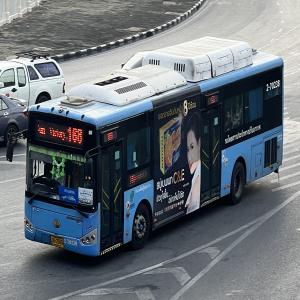BMTA-bus: (23, 38, 284, 259)
Bus Line Number: (66, 123, 84, 145)
Bus Side Number: (63, 236, 78, 248)
Destination Sign: (59, 186, 79, 204)
